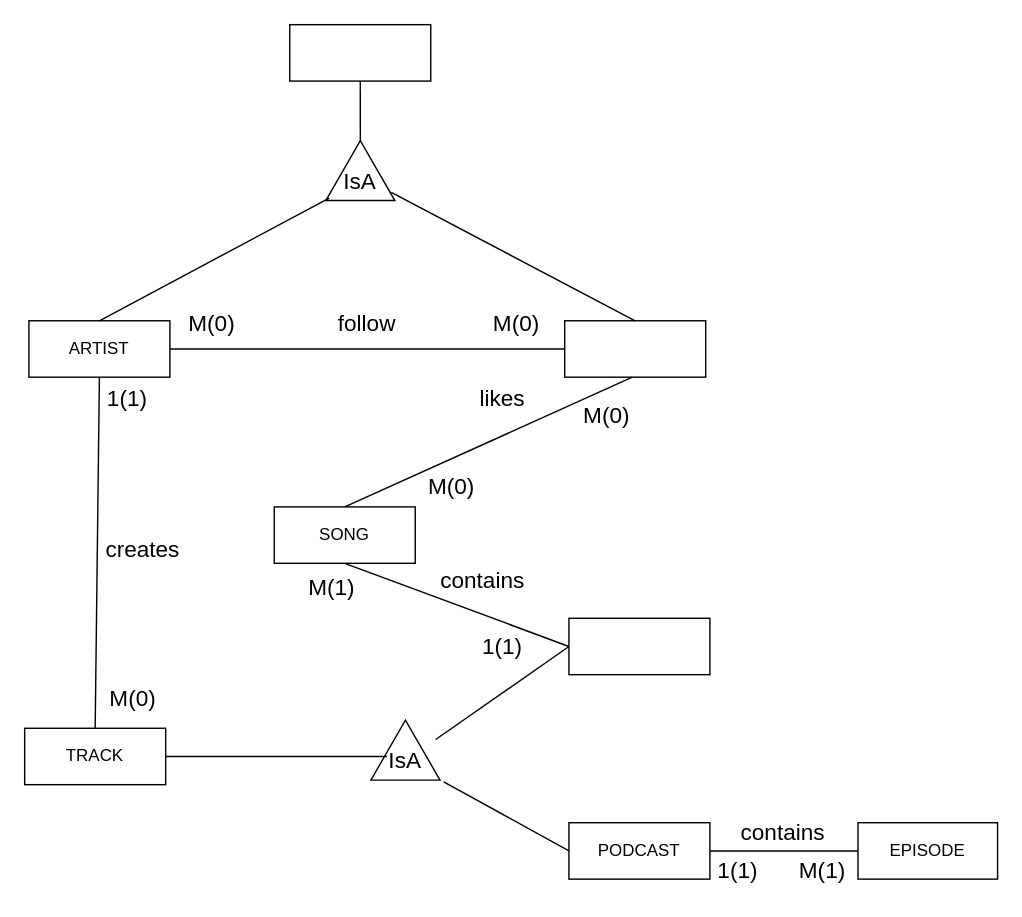
Image size: 1022x917. Some labels were removed from this diagram. The shapes that lost their labels are listed below. From the top down, each one's centre as x and y in pixels, then its label:
pixel 359 52: APP_USER
pixel 634 348: LISTENER
pixel 639 646: ALBUM
